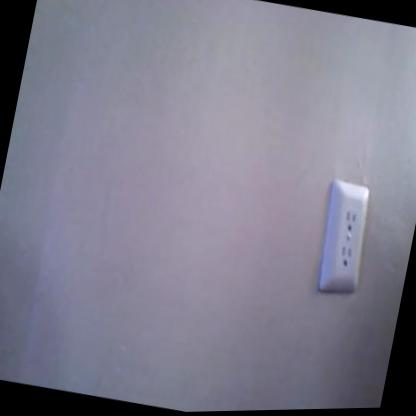OUTLET: (310, 177, 380, 299)
